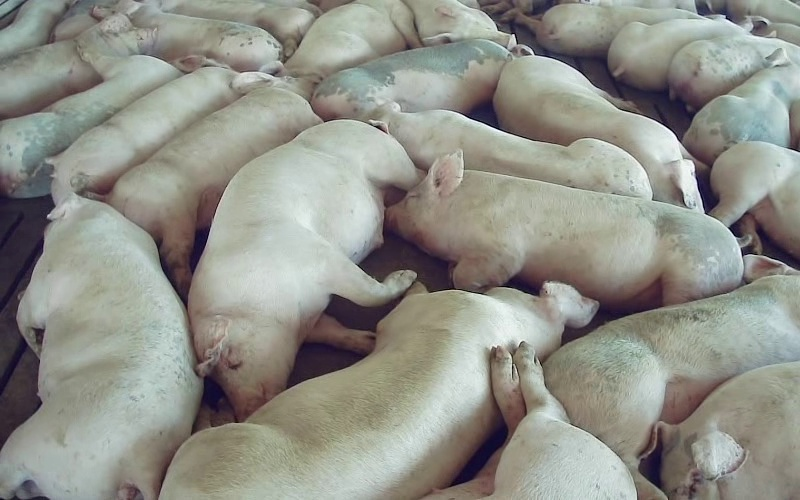pig: (161, 281, 597, 499), (188, 120, 419, 419), (545, 255, 799, 499), (0, 195, 201, 499), (106, 73, 320, 295), (422, 342, 636, 499), (493, 55, 707, 210), (0, 51, 205, 197), (372, 103, 651, 198), (48, 67, 238, 201), (660, 361, 799, 499), (0, 14, 154, 118), (311, 39, 509, 119), (683, 48, 799, 164), (93, 0, 282, 71), (262, 0, 421, 78), (709, 141, 799, 259), (668, 35, 799, 111), (608, 18, 745, 90), (515, 3, 699, 56), (404, 0, 516, 49)
